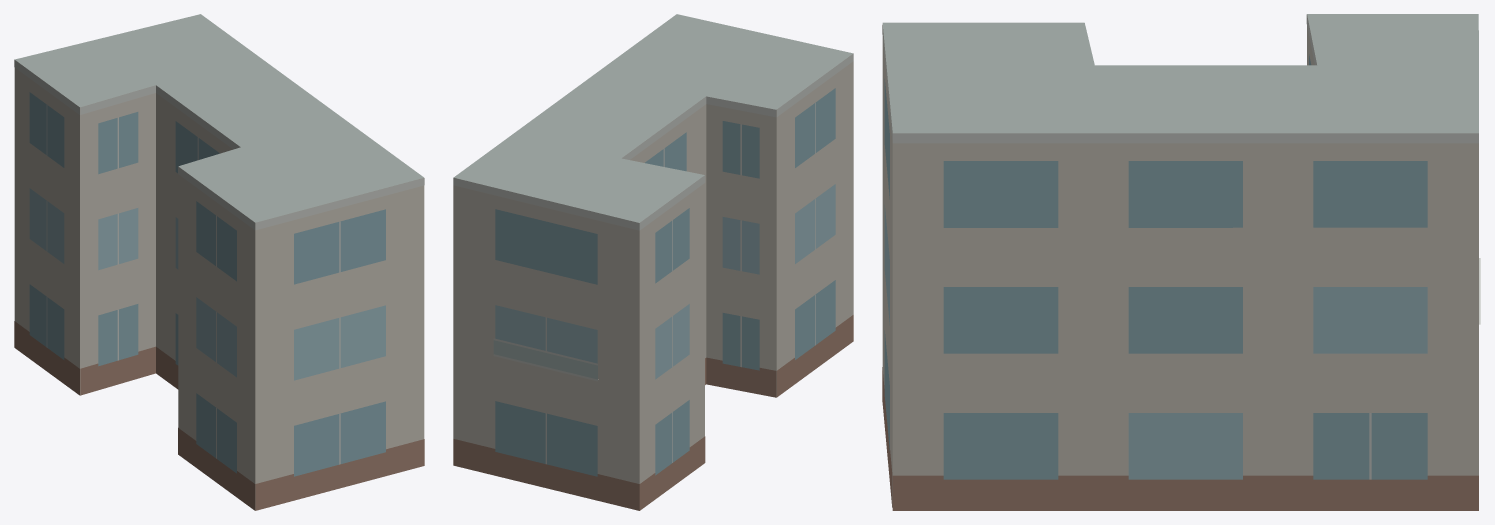
The model's file is survey-upis-32859148.glb.
The picture shows the model from 3 angles, left to right: view 1: azimuth 30°, elevation 25°; view 2: azimuth 150°, elevation 25°; view 3: azimuth 270°, elevation 25°; orthographic projection. The views are drawn at different scales.
Visible parts, largest first — view 1: survey-upis-32859148.tmp; view 2: survey-upis-32859148.tmp; view 3: survey-upis-32859148.tmp.
Boxes of the visible parts, box(x1,y1,x2,y2) form: survey-upis-32859148.tmp: box(14, 14, 424, 510); survey-upis-32859148.tmp: box(453, 14, 853, 510); survey-upis-32859148.tmp: box(882, 14, 1480, 510).
Bounding box in the file's own units: 6.21 × 9.15 × 13.14.
